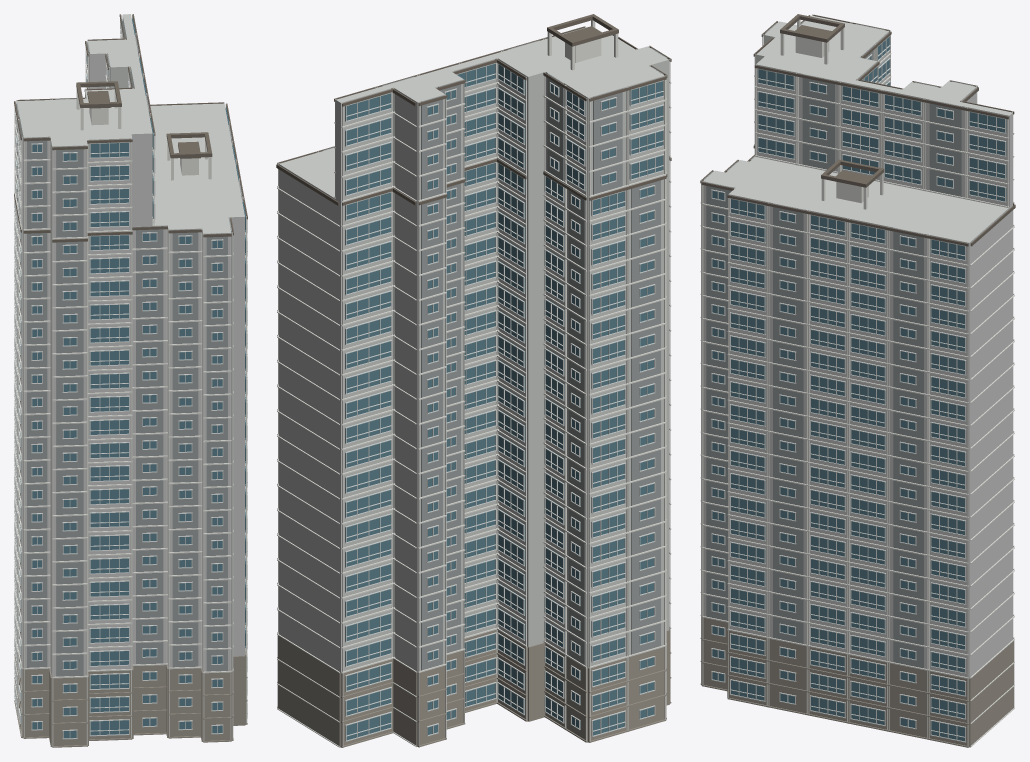
File: bespoke-banpo-xi-132.glb
3 renders of one model, left to right at view 1: azimuth 30°, elevation 25°; view 2: azimuth 150°, elevation 25°; view 3: azimuth 270°, elevation 25°, orthographic. The views are drawn at different scales.
Visible parts, largest first — view 1: editable_BX132_pale_silver_limestone, editable_BX132_grey_service_core, editable_BX132_blue_grey_broad_glazing, editable_BX132_ivory_course_bands, editable_BX132_white_window_frames, editable_BX132_warm_ground_stone, editable_BX132_dark_coping; view 2: editable_BX132_pale_silver_limestone, editable_BX132_blue_grey_broad_glazing, editable_BX132_white_window_frames, editable_BX132_ivory_course_bands, editable_BX132_grey_service_core, editable_BX132_warm_ground_stone, editable_BX132_dark_coping; view 3: editable_BX132_pale_silver_limestone, editable_BX132_blue_grey_broad_glazing, editable_BX132_white_window_frames, editable_BX132_grey_service_core, editable_BX132_ivory_course_bands, editable_BX132_warm_ground_stone, editable_BX132_dark_coping.
Boxes of the visible parts, left/top/right/bottom form: editable_BX132_pale_silver_limestone: left=17, top=14, right=244, bottom=746; editable_BX132_grey_service_core: left=16, top=36, right=242, bottom=676; editable_BX132_blue_grey_broad_glazing: left=16, top=18, right=245, bottom=738; editable_BX132_ivory_course_bands: left=14, top=14, right=247, bottom=746; editable_BX132_white_window_frames: left=14, top=19, right=247, bottom=739; editable_BX132_warm_ground_stone: left=14, top=649, right=247, bottom=747; editable_BX132_dark_coping: left=14, top=14, right=247, bottom=242; editable_BX132_pale_silver_limestone: left=279, top=27, right=668, bottom=746; editable_BX132_blue_grey_broad_glazing: left=345, top=64, right=662, bottom=740; editable_BX132_white_window_frames: left=345, top=63, right=664, bottom=741; editable_BX132_ivory_course_bands: left=277, top=20, right=671, bottom=747; editable_BX132_grey_service_core: left=322, top=40, right=667, bottom=670; editable_BX132_warm_ground_stone: left=277, top=629, right=671, bottom=747; editable_BX132_dark_coping: left=276, top=14, right=671, bottom=205; editable_BX132_pale_silver_limestone: left=703, top=15, right=1012, bottom=678; editable_BX132_blue_grey_broad_glazing: left=712, top=37, right=1006, bottom=741; editable_BX132_white_window_frames: left=711, top=35, right=1006, bottom=742; editable_BX132_grey_service_core: left=703, top=20, right=973, bottom=668; editable_BX132_ivory_course_bands: left=700, top=15, right=1014, bottom=747; editable_BX132_warm_ground_stone: left=700, top=617, right=1014, bottom=747; editable_BX132_dark_coping: left=700, top=14, right=1015, bottom=246.
Bounding box in the file's own units: 34.67 × 72.9 × 33.51.
